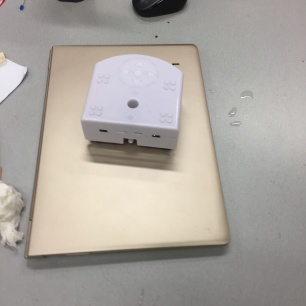thymio: (79, 53, 188, 155)
